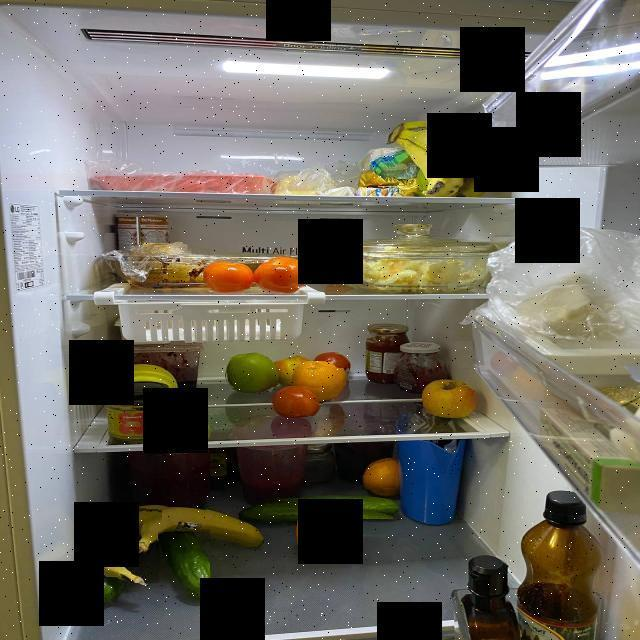apple: (224, 352, 284, 388), (423, 381, 481, 416), (266, 355, 300, 382), (413, 170, 424, 191)
banana: (386, 121, 506, 194), (78, 503, 162, 583), (138, 499, 270, 546)
cucumber: (158, 529, 210, 597), (246, 497, 394, 519), (86, 576, 118, 603)
orange: (298, 507, 358, 554), (294, 361, 349, 398), (362, 458, 398, 490), (324, 245, 337, 274)
tomato: (250, 260, 306, 288), (269, 387, 323, 416), (204, 263, 251, 289), (312, 352, 350, 368)
